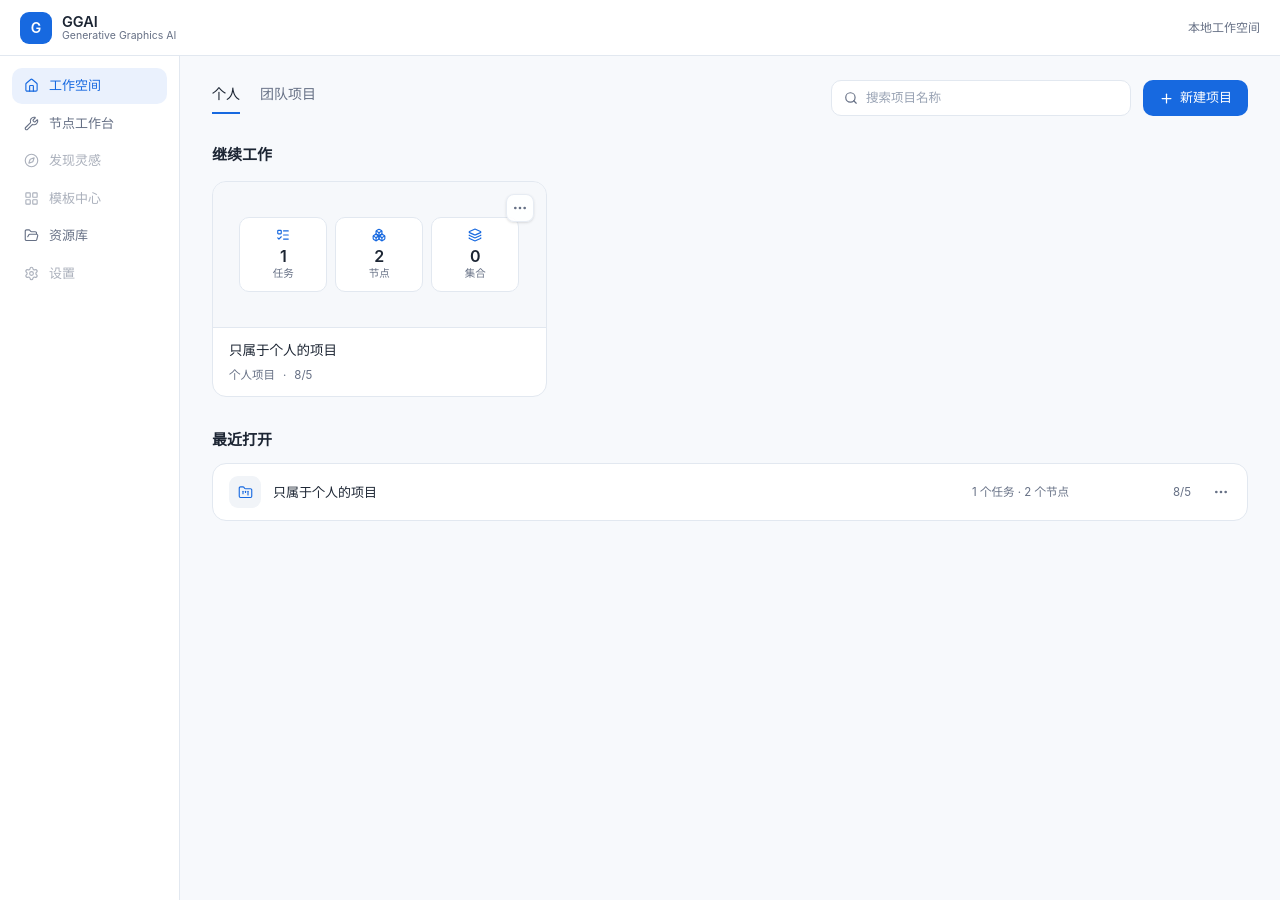
Workspace › shows an explicit team empty state instead of reusing personal projects
Step 1. Click the tab "团队项目" → (288, 98), box [260,82,316,114]
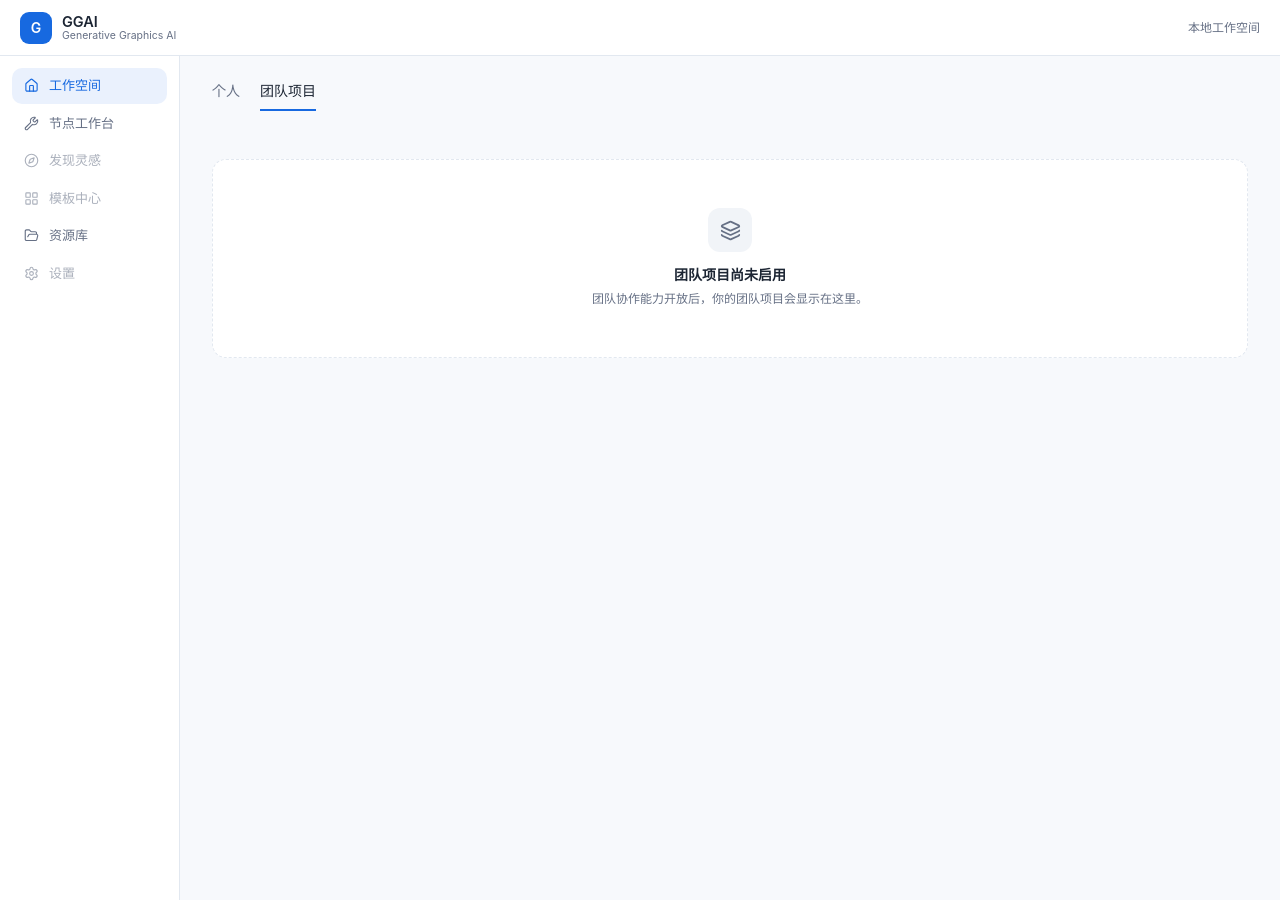
Expected: the text "团队项目尚未启用" is shown, [674,264,786,285]
Expected: the text "只属于个人的项目" is gone
